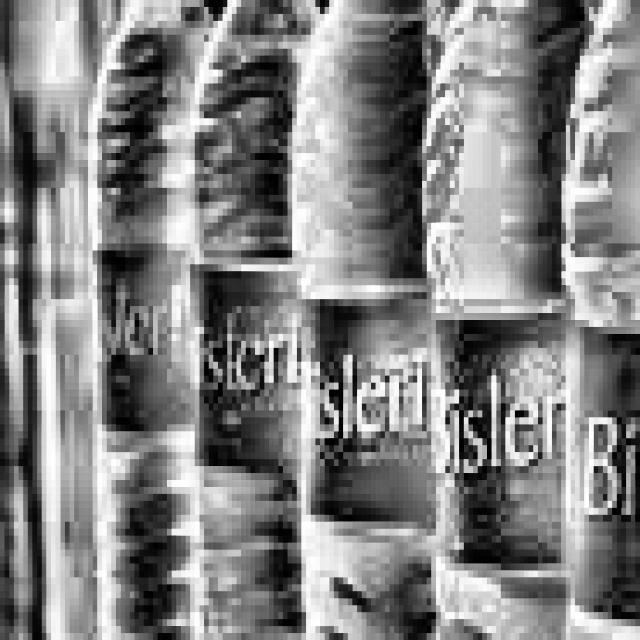bottle: (422, 0, 587, 640), (288, 0, 443, 640), (88, 0, 218, 640), (190, 0, 315, 640)
